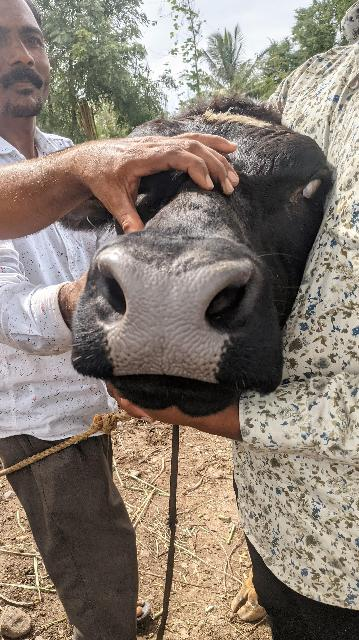Muzzle: (104, 256, 222, 382)
